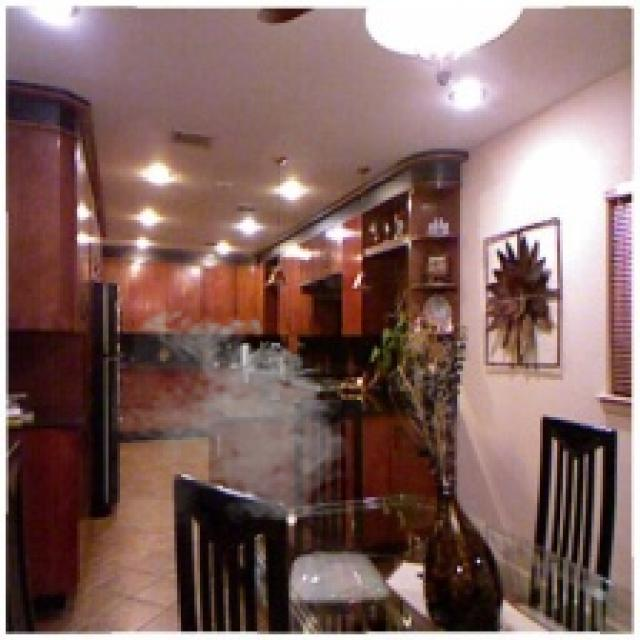smoke: (112, 303, 357, 528)
